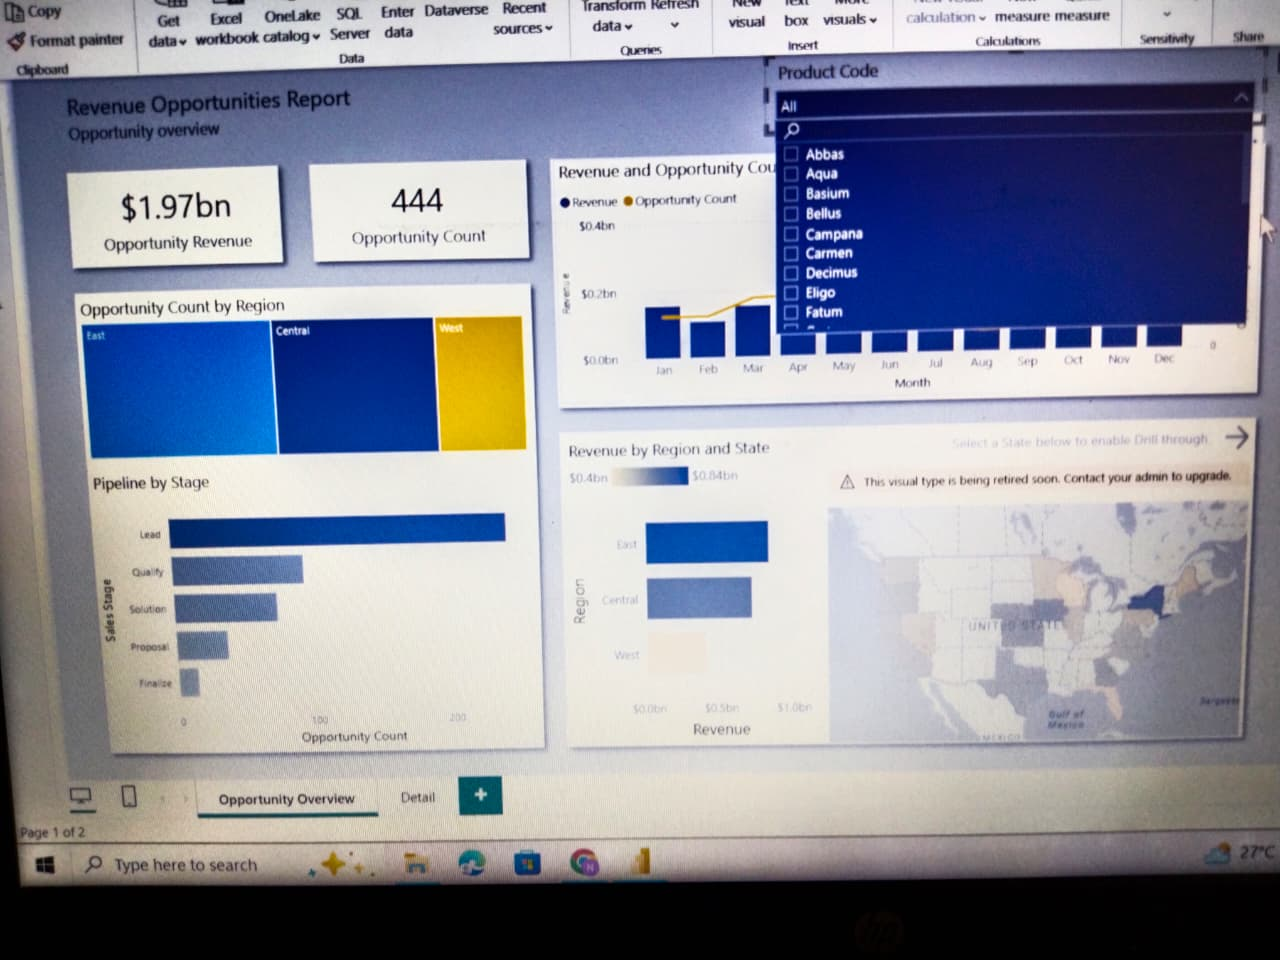

Layout of this report page (visuals, bound fields, positions):
{"tool":"powerbi","page":{"name":"Opportunity Overview","canvas":[1280,720],"ordinal":0},"visuals":[{"type":"card","title":"Revenue","fields":{"Values":["Fact.Revenue"]},"box":[49.6,92.4,215,91.4],"z":0,"group":"g1"},{"type":"card","title":"Count","fields":{"Values":["Fact.Opportunity Count"]},"box":[291.8,92.4,215,91.4],"z":1000,"group":"g1"},{"type":"basicShape","title":"Shape for mobile","box":[968,471.9,12.5,12.5],"z":1000},{"type":"slicer","title":"Product Slicer","fields":{"Values":["Product.Product Code"]},"box":[742.8,0,486.4,75.1],"z":6000},{"type":"treemap","fields":{"Group":["Account.Region","Account.State"],"Values":["Fact.Opportunity Count"]},"box":[48,216,456,168],"z":7000},{"type":"filledMap","fields":{"Category":["Account.State"]},"box":[800,400,432,288],"z":8000},{"type":"lineStackedColumnComboChart","fields":{"Category":["Fact.Month"],"Y":["Fact.Revenue"],"Y2":["Fact.Opportunity Count"]},"box":[535,92.4,694.5,238.3],"z":9000},{"type":"barChart","title":"Pipeline by Stage","fields":{"Category":["SalesStage.Sales Stage"],"Y":["Fact.Opportunity Count"]},"box":[48,392,456,296],"z":10000},{"type":"textbox","title":"Report Title","box":[47.7,8.3,600.9,63.2],"z":11000},{"type":"barChart","title":"Revenue by Region and State","fields":{"Category":["Account.Region","Account.State"],"Y":["Fact.Revenue"]},"box":[536,368,256,320],"z":12000},{"type":"actionButton","title":"Q&A","box":[1229.4,0,50.6,39.9],"z":13000},{"type":"actionButton","box":[928,360,304,40],"z":14000},{"type":"group","id":"g1","title":"Opportunity Cards","box":[49.6,92.4,457.1,91.4],"z":15000}]}

Visuals, with their boxes on the page's 1280x720 design canvas (x1, y1, x2, y2). These are canvas units, not pixel positions in the 1280x960 screenshot, which may show the page scaled, cropped or inside an application window:
"Revenue" card: region(50, 92, 265, 184)
"Count" card: region(292, 92, 507, 184)
"Shape for mobile" basicShape: region(968, 472, 980, 484)
"Product Slicer" slicer: region(743, 0, 1229, 75)
treemap - Account.Region x Account.State: region(48, 216, 504, 384)
filledMap - Account.State: region(800, 400, 1232, 688)
lineStackedColumnComboChart - Fact.Month x Fact.Revenue: region(535, 92, 1230, 331)
"Pipeline by Stage" barChart: region(48, 392, 504, 688)
"Report Title" textbox: region(48, 8, 649, 72)
"Revenue by Region and State" barChart: region(536, 368, 792, 688)
"Q&A" actionButton: region(1229, 0, 1280, 40)
actionButton: region(928, 360, 1232, 400)
"Opportunity Cards" group: region(50, 92, 507, 184)
